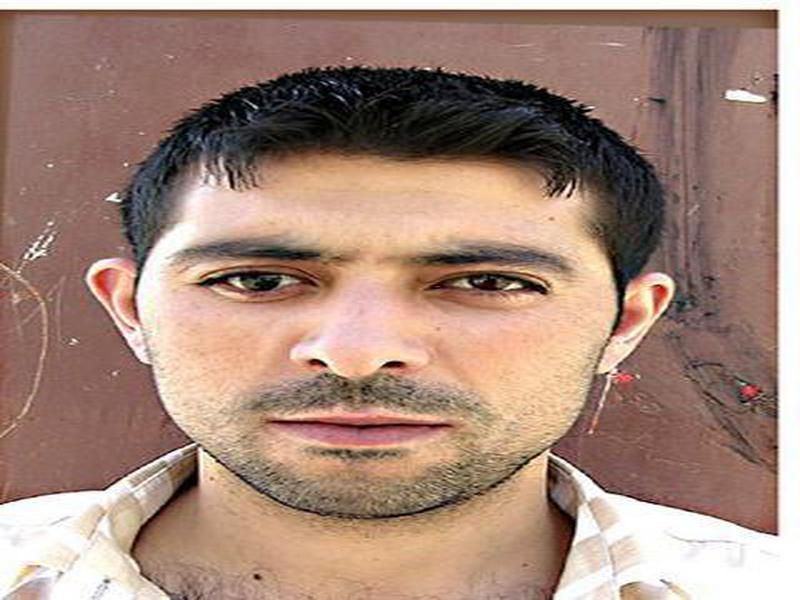without_mask: (141, 188, 611, 527)
